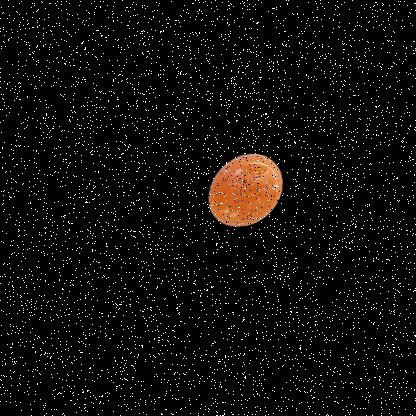welood: (194, 133, 310, 244)
